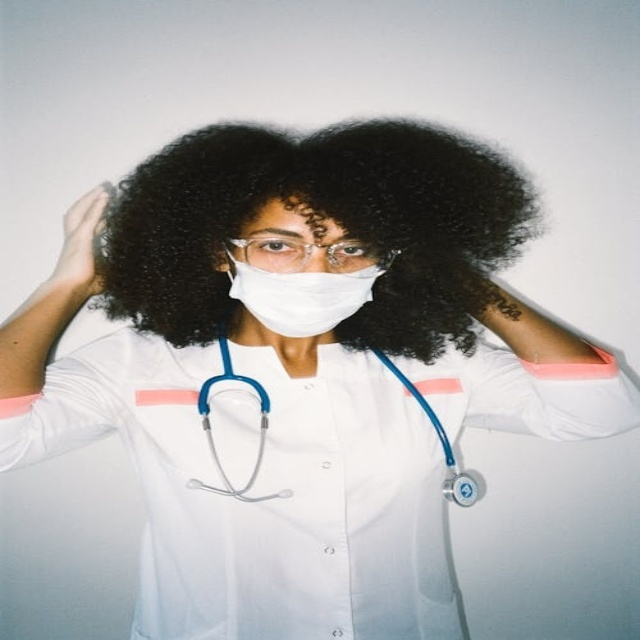Gafas: (232, 228, 404, 279)
Mascara: (223, 247, 389, 337)
Sin_guantes: (56, 179, 122, 295)
